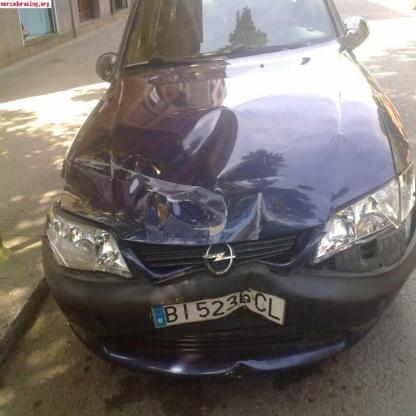front_bumper: (42, 234, 414, 378)
headlamp: (315, 162, 414, 260), (47, 207, 133, 278)
hood: (62, 41, 397, 245)
